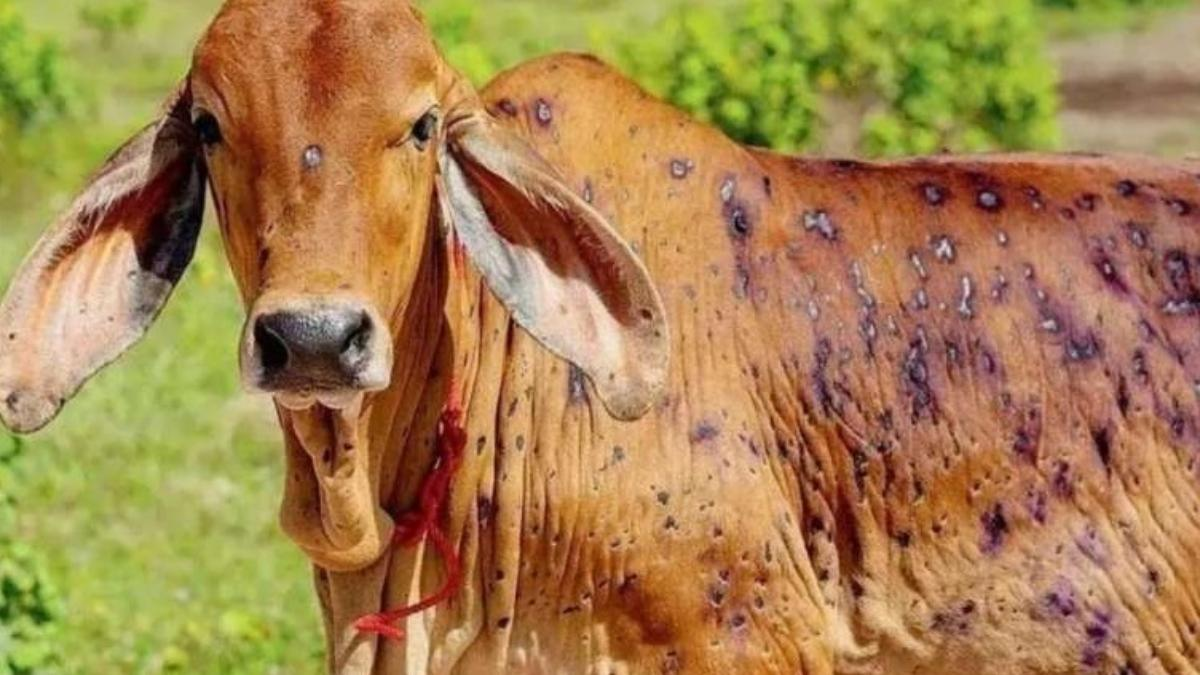infection: (534, 130, 1178, 587)
